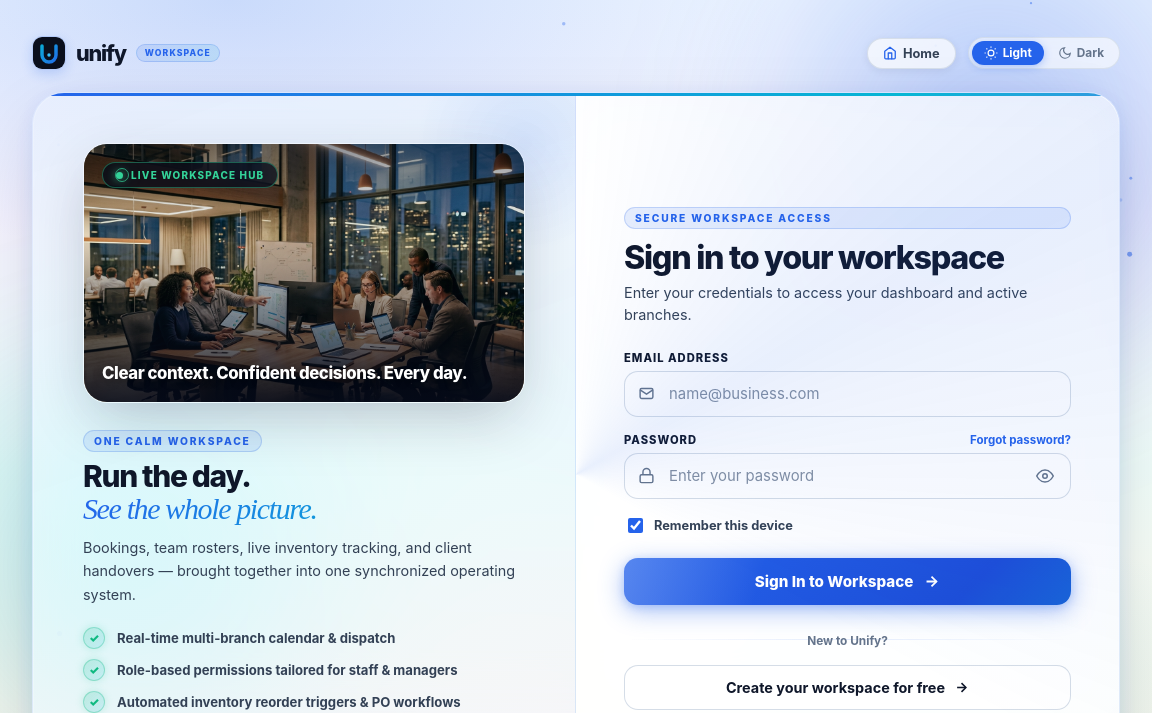
LoginPage › shows the server's message when the credentials are rejected
In the field labelled "Email address": (848,394) [624,371,1071,417], type "admin@test.local"
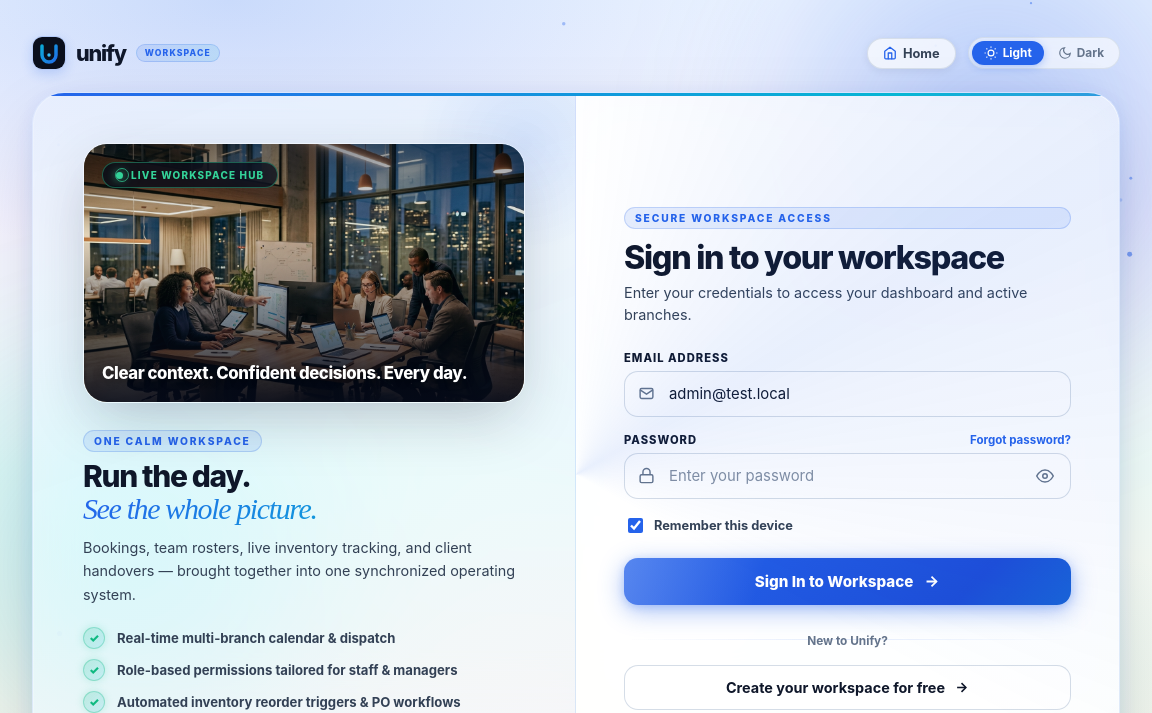
In the password field labelled "Password": (848,476) [624,453,1071,499], type "wrong"
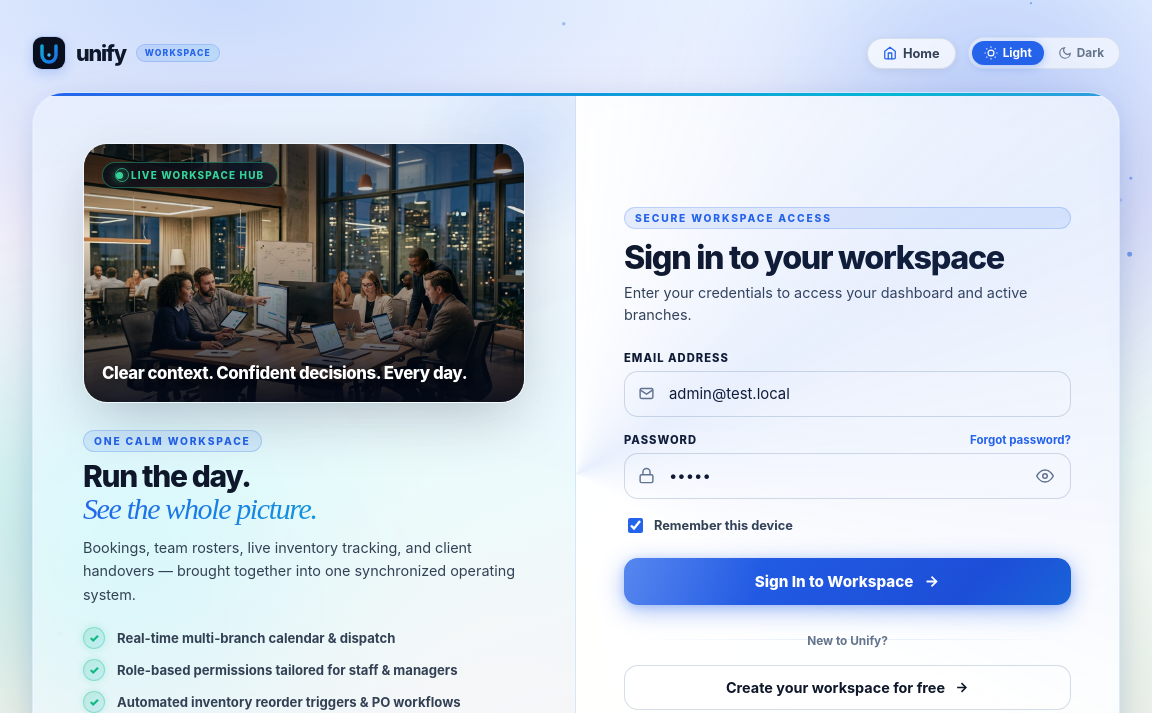
Click the button "Sign In to Workspace": (848,581) [624,558,1071,605]
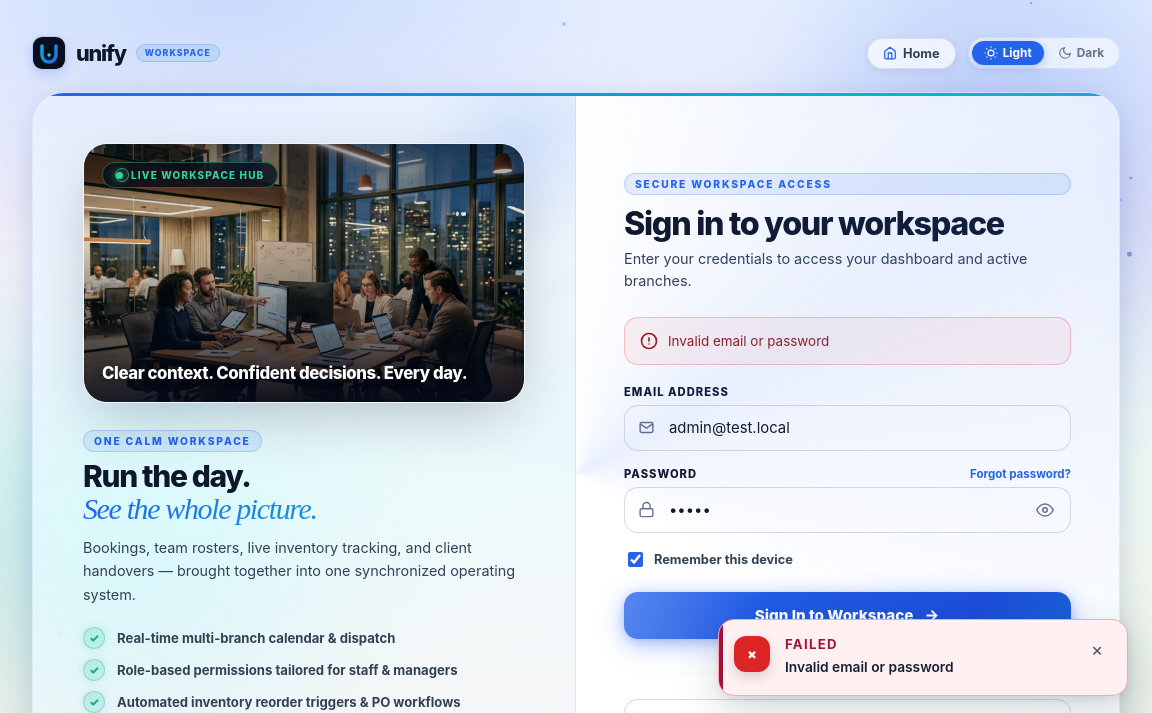
Expected: the text "Invalid email or password" below "Sign in to your workspace" is shown, [668,333,829,349]
